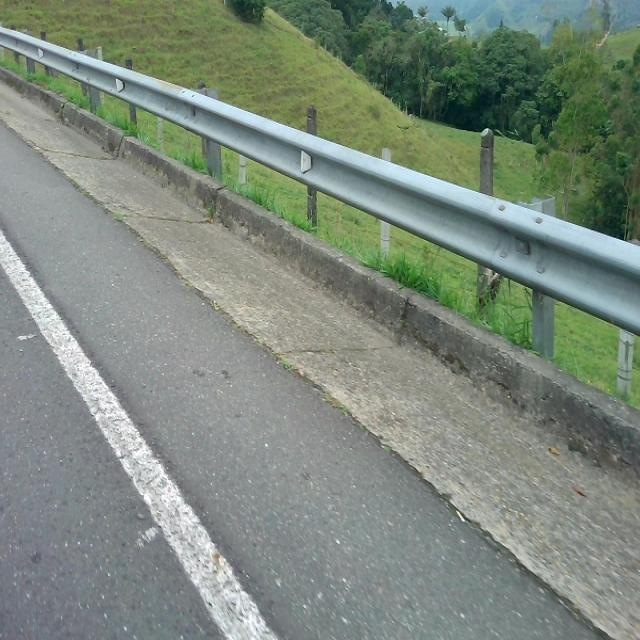DITCH: (3, 24, 638, 638), (5, 51, 638, 638), (1, 68, 638, 637)
